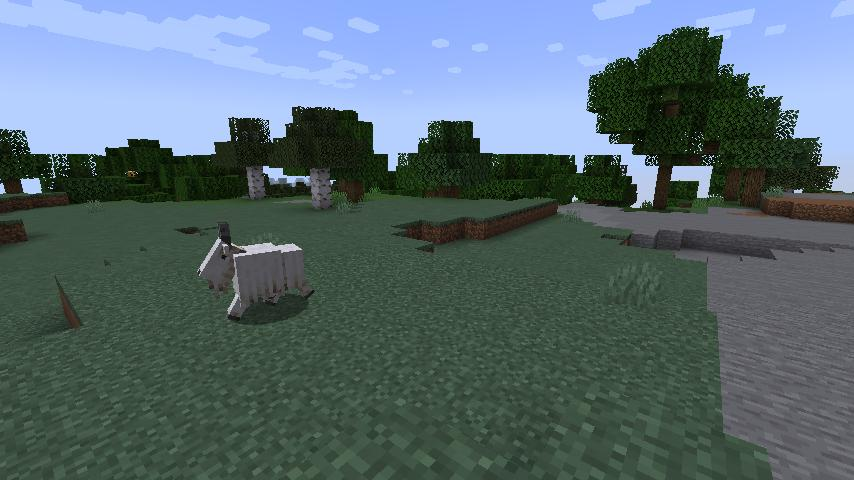goat: (194, 217, 320, 322)
